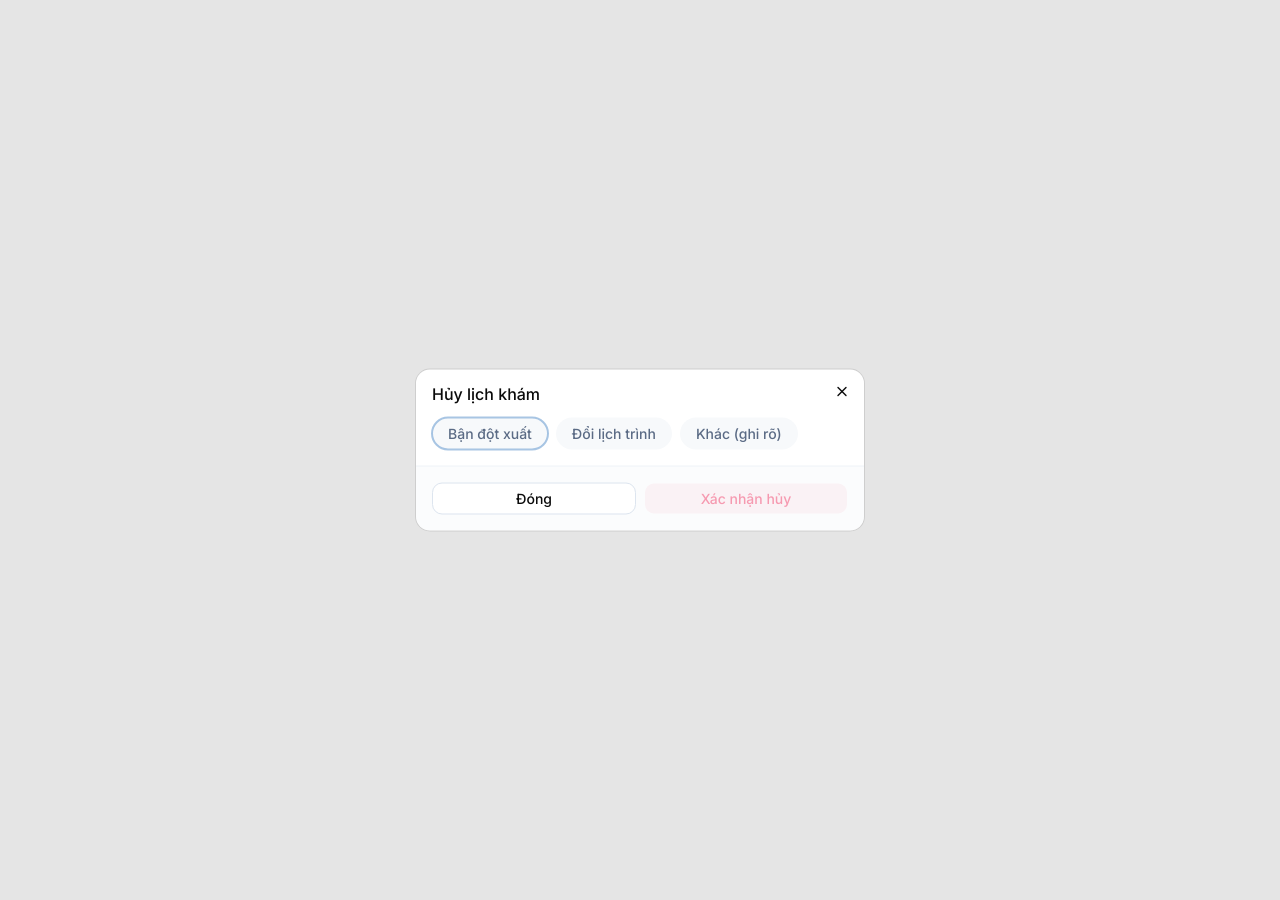
CancelAppointmentDialog › chọn preset 'Khác (ghi rõ)' → hiện textarea và bật disabled khi trống
Click the button "Khác (ghi rõ)" at (739, 434), box x1=680 y1=418 x2=798 y2=450
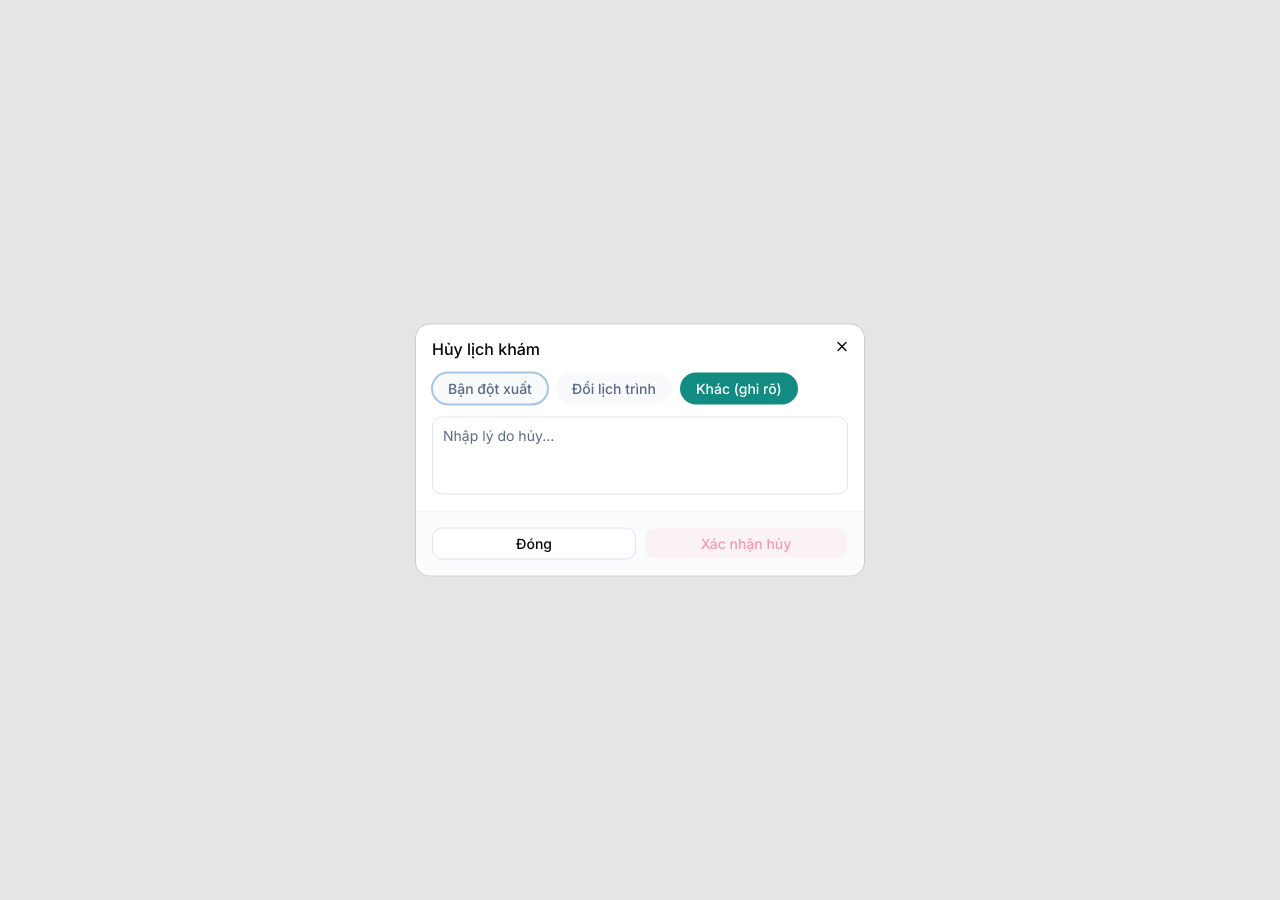
Expected: the button with test id "confirm-cancel-button" is disabled, x1=644 y1=528 x2=848 y2=560
Now the text box with test id "custom-reason-textarea" is shown
Type "Tôi bận đi công tác" into the text box with test id "custom-reason-textarea" at (640, 456), box x1=432 y1=416 x2=848 y2=494
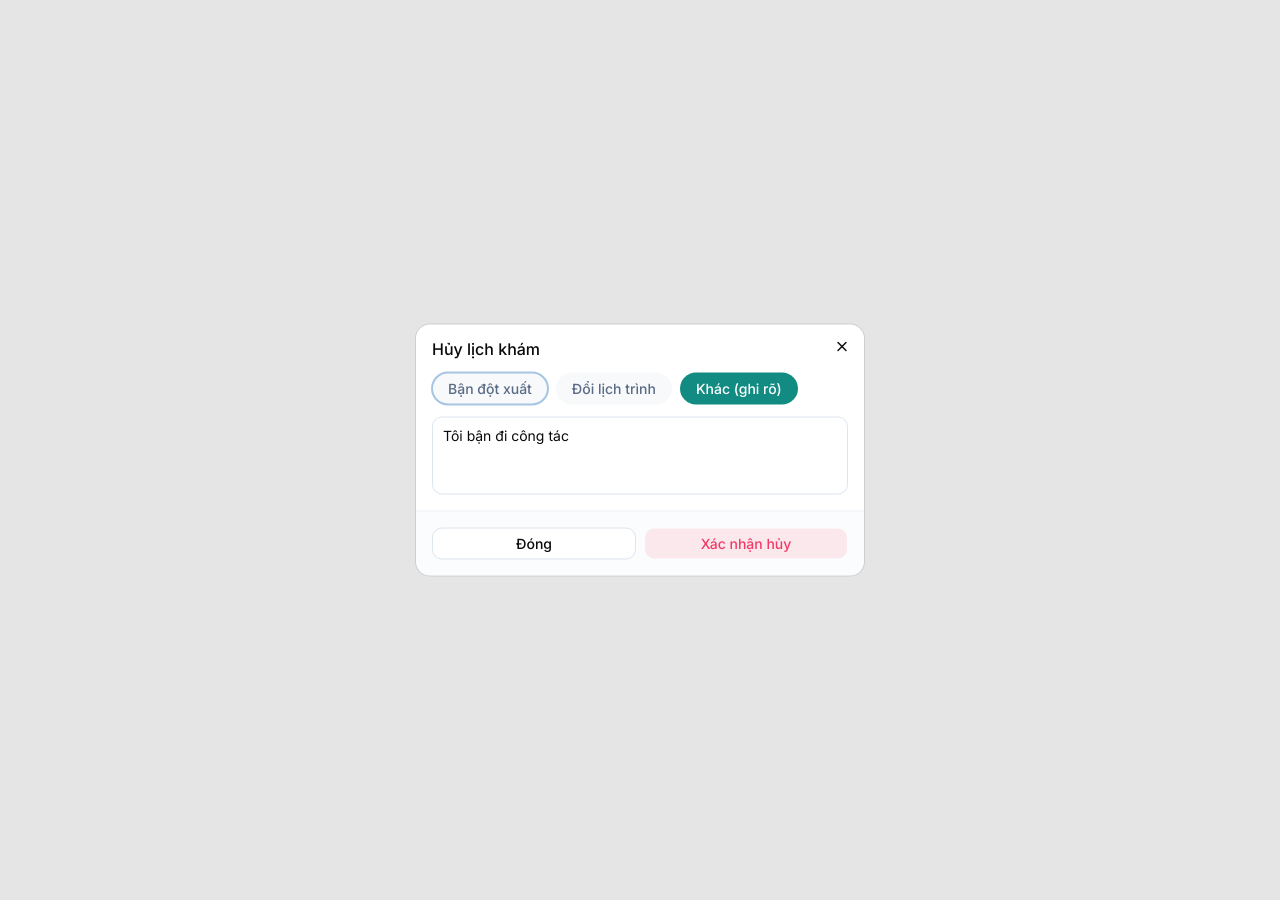
Now the button with test id "confirm-cancel-button" is enabled, box x1=644 y1=528 x2=848 y2=560
